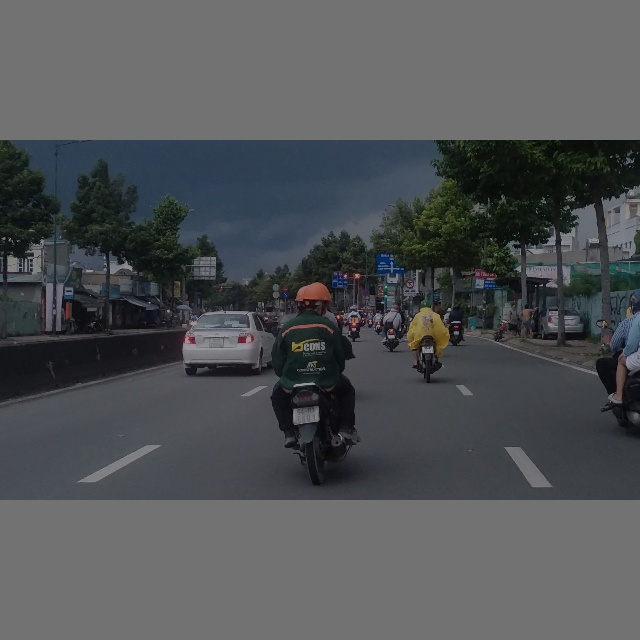P.102: (282, 286, 288, 292)
P.137: (406, 279, 414, 288)
R.302a: (283, 293, 288, 298)
R.415a: (332, 276, 348, 288)
